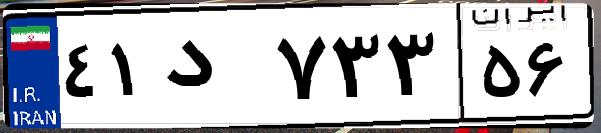1: (110, 28, 158, 98)
3: (385, 28, 445, 110), (330, 28, 385, 110)
4: (57, 26, 110, 100)
5: (475, 38, 525, 113)
6: (525, 38, 570, 115)
7: (270, 28, 330, 110)
د: (158, 20, 270, 120)
